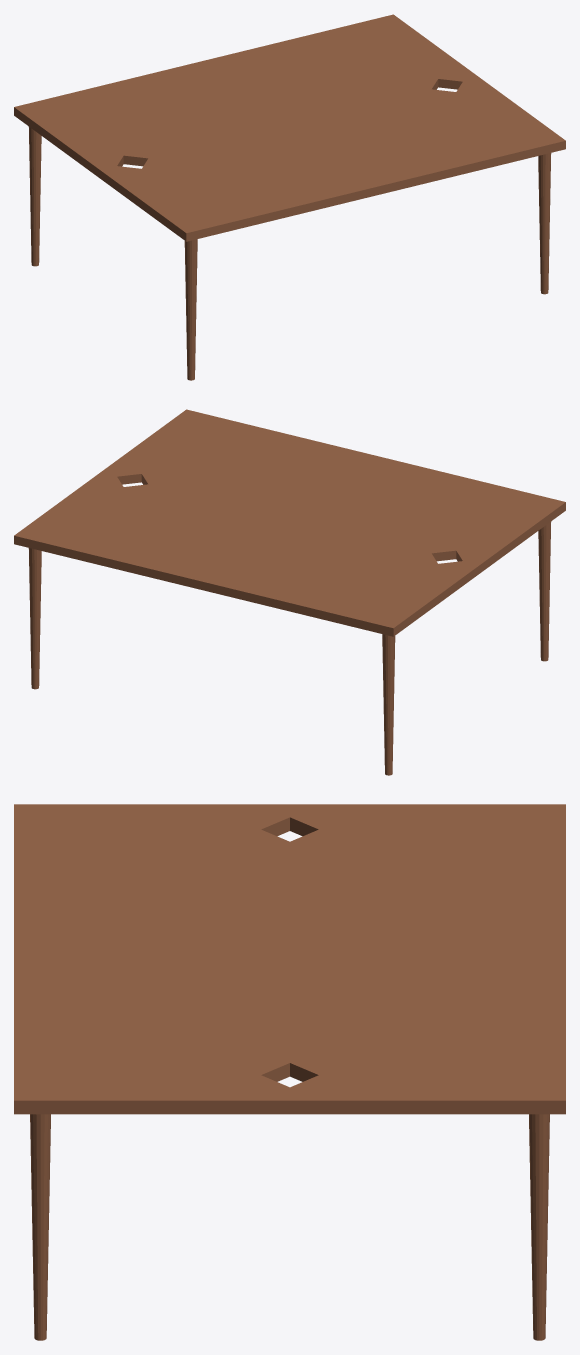
Rendered from table.gltf.
3 views of the same model, one above another, from view 1: azimuth 30°, elevation 25°; view 2: azimuth 150°, elevation 25°; view 3: azimuth 270°, elevation 25° (orthographic). The views are drawn at different scales.
Parts seen in each view (by area): view 1: table_surface, table_legs; view 2: table_surface, table_legs; view 3: table_surface, table_legs.
Boxes of the visible parts, x1,y1,x2,y2 form: table_surface: (14,14,565,241); table_legs: (28,126,551,380); table_surface: (14,409,565,636); table_legs: (28,521,551,775); table_surface: (14,804,565,1114); table_legs: (30,1114,549,1340).
Size of the model in its own units: 4.85 by 1.89 by 3.82.
